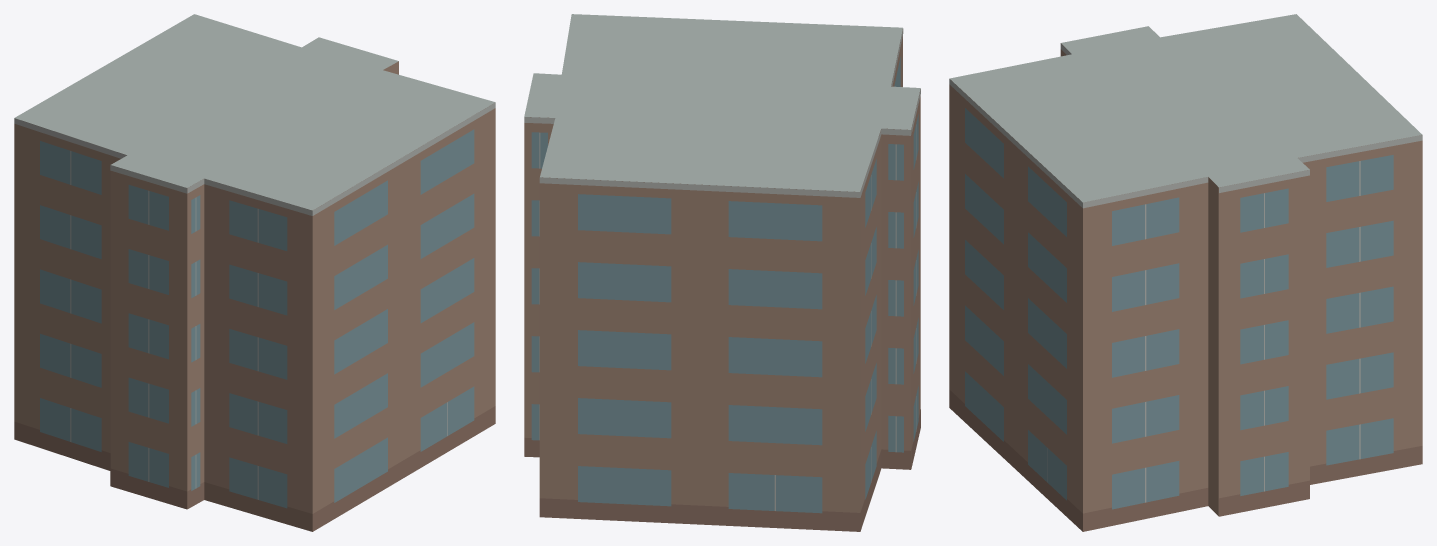
The model's file is survey-upis-32598926.glb.
3 renders of one model, left to right at view 1: azimuth 30°, elevation 25°; view 2: azimuth 150°, elevation 25°; view 3: azimuth 270°, elevation 25°, orthographic. The views are drawn at different scales.
Parts seen in each view (by area): view 1: survey-upis-32598926.tmp; view 2: survey-upis-32598926.tmp; view 3: survey-upis-32598926.tmp.
Part boxes in pixels (left/top/right/bottom): survey-upis-32598926.tmp: left=14, top=14, right=495, bottom=531; survey-upis-32598926.tmp: left=524, top=14, right=920, bottom=531; survey-upis-32598926.tmp: left=949, top=14, right=1422, bottom=531.
Size of the model in its own units: 17.08 by 13.9 by 18.11.
